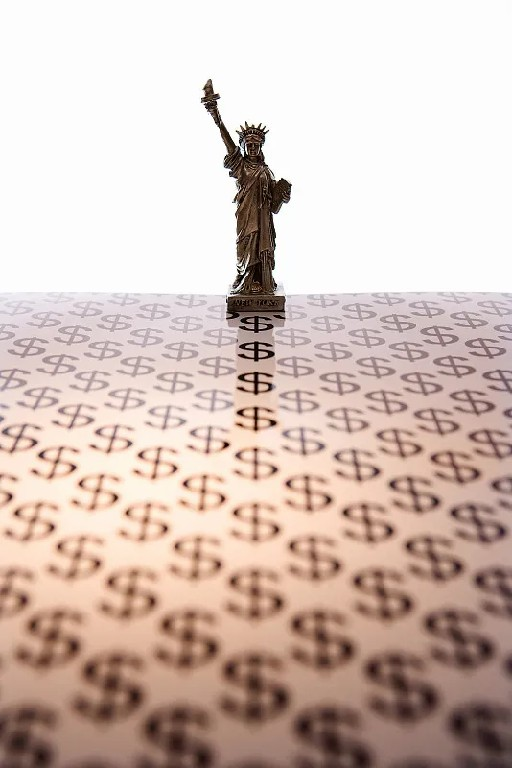SL: (200, 76, 292, 314)
